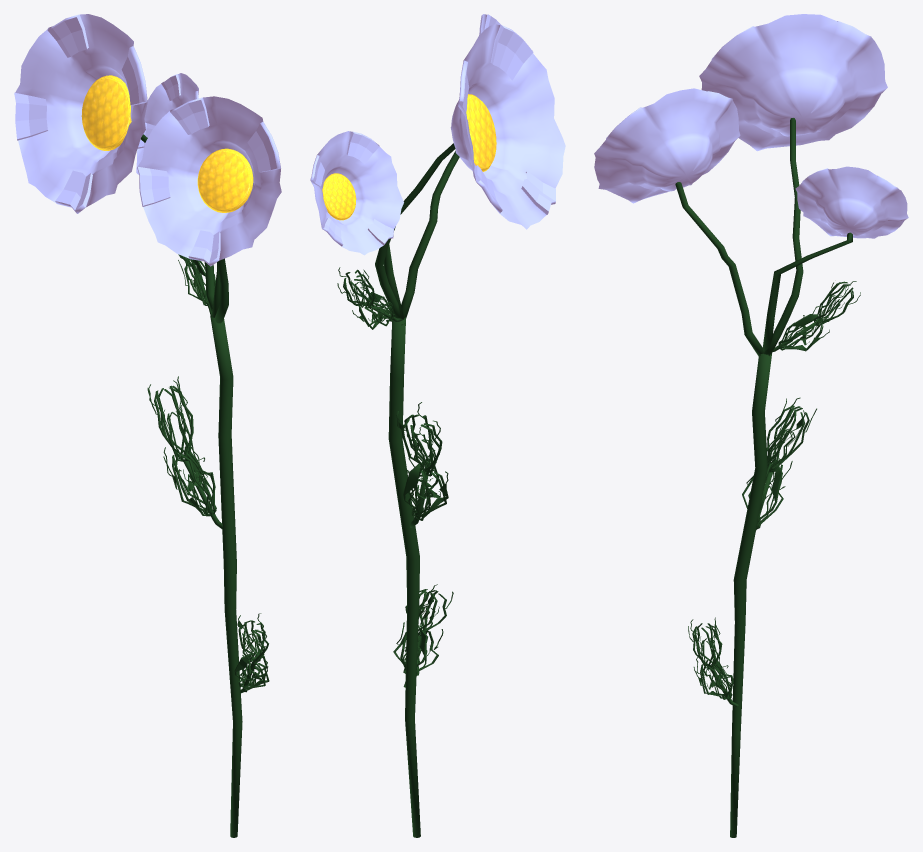
File: cosmospurplecp.glb
3 renders of one model, left to right at view 1: azimuth 30°, elevation 25°; view 2: azimuth 150°, elevation 25°; view 3: azimuth 270°, elevation 25°, orthographic. The views are drawn at different scales.
Parts seen in each view (by area): view 1: flower; view 2: flower; view 3: flower.
Part boxes in pixels (bbox=[...]): flower: bbox=[14, 14, 281, 837]; flower: bbox=[310, 14, 565, 837]; flower: bbox=[594, 14, 908, 837].
Bounding box in the file's own units: 1.09 × 4.64 × 1.7.
3 materials, 1 textured.
